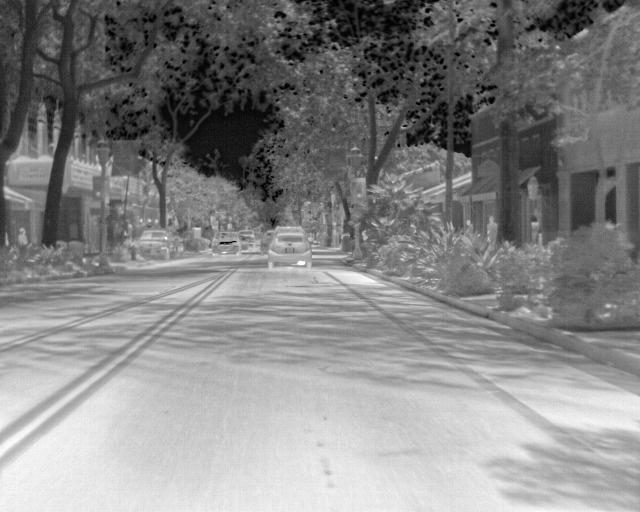bicycle: (136, 228, 186, 262), (267, 234, 314, 268), (212, 235, 240, 256)
empty: (484, 216, 498, 252), (14, 226, 29, 250)
